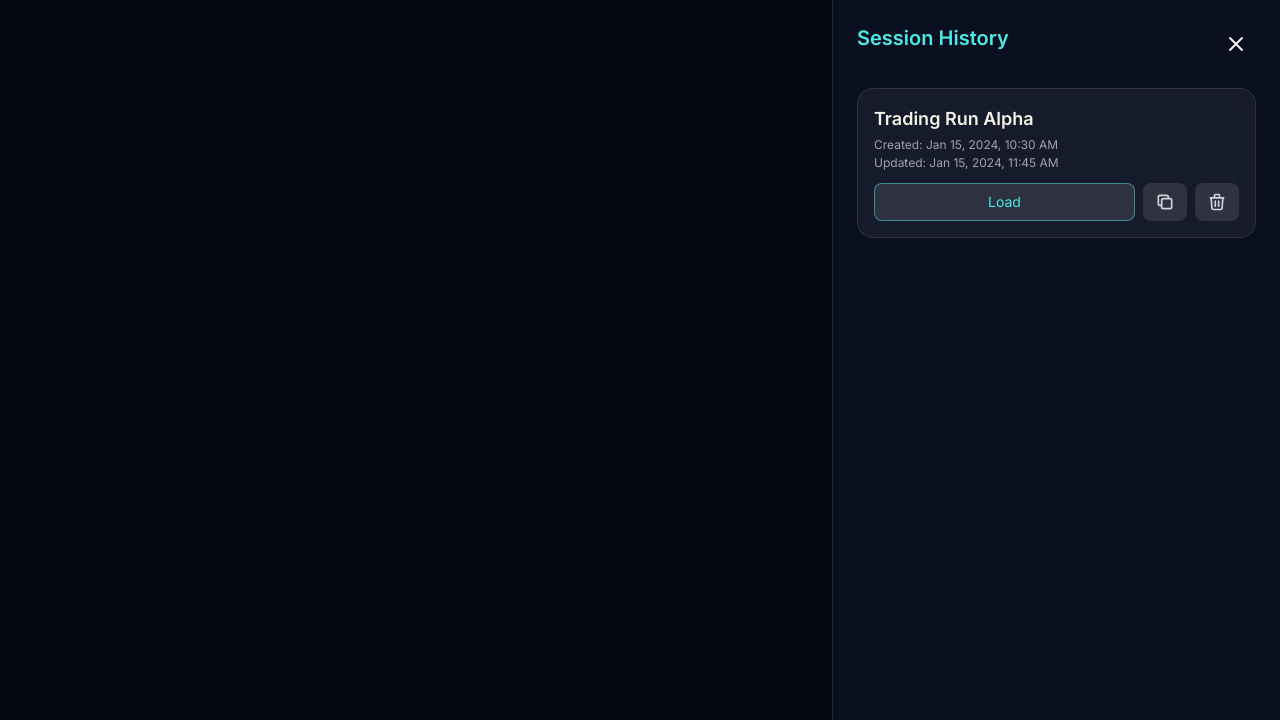
Scenario: SessionHistory - Delete Session › should show confirmation dialog when delete button is clicked
The width and height of the screenshot is (1280, 720).
What coordinates should you click on to do the following:
click the button named "Delete"
I would click on:
 (1217, 202)
Its box is [1195,183,1239,221].
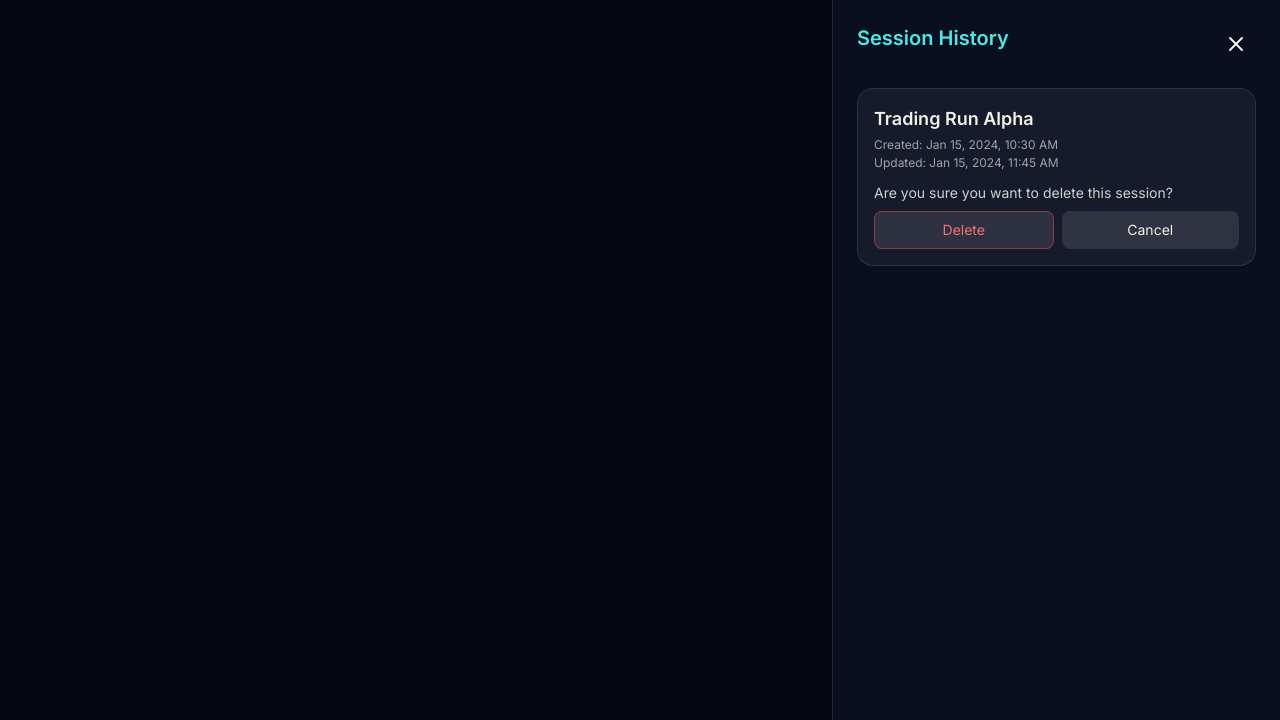
Expected: the text "Are you sure you want to delete this session?" is shown, [874,184,1173,201]
